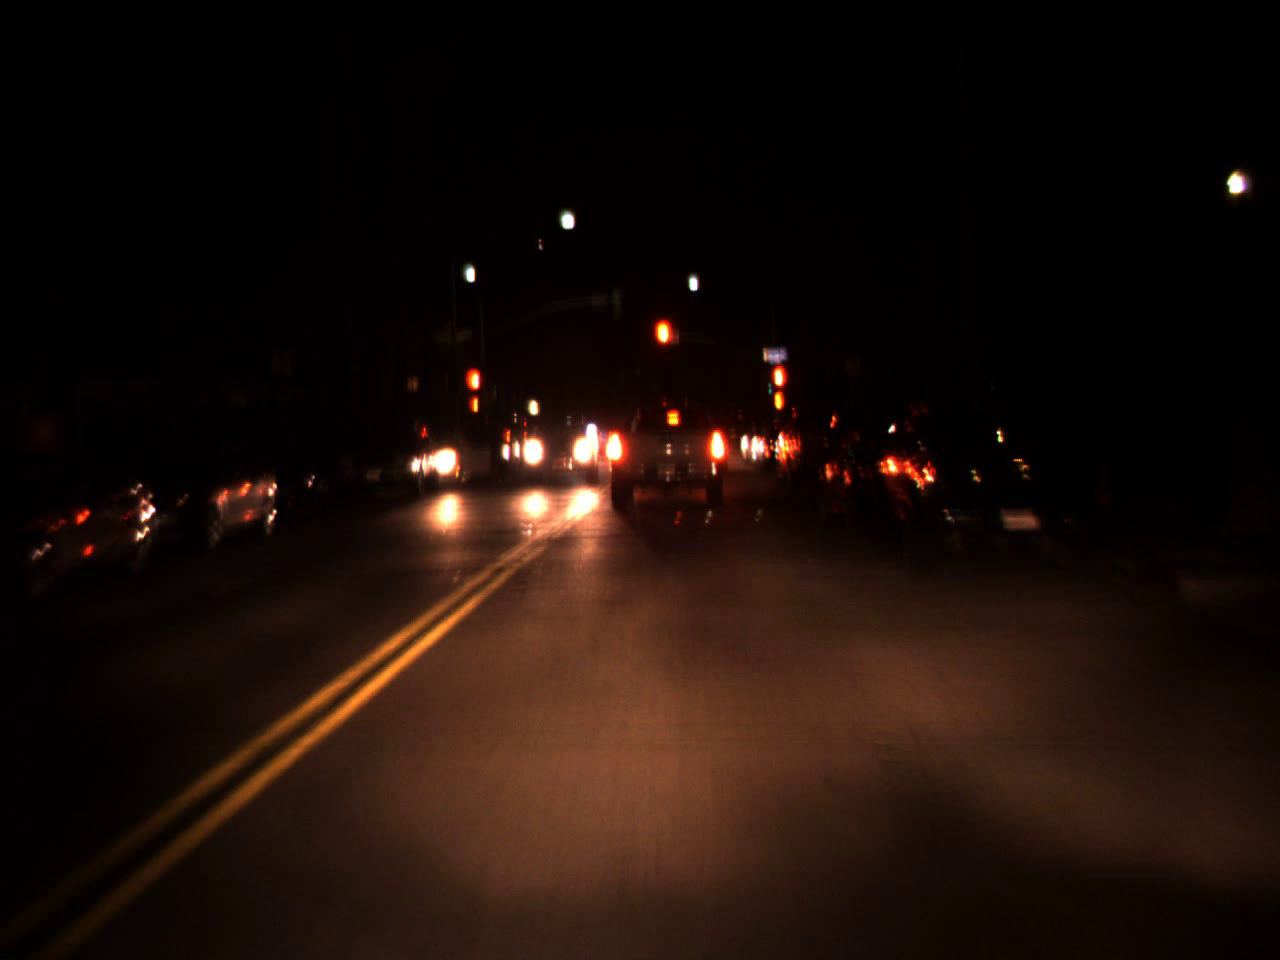stop: (652, 314, 676, 378), (463, 365, 482, 419), (771, 360, 789, 416)
